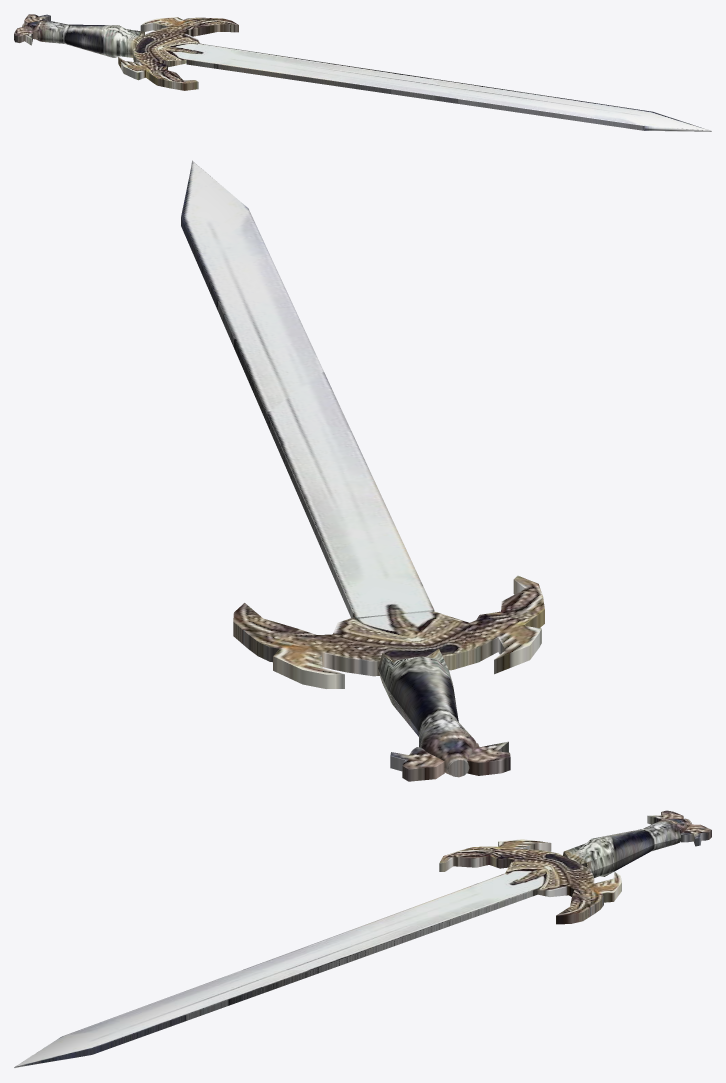
The model's file is sword.FBX.
3 renders of one model, top to bottom at view 1: azimuth 30°, elevation 25°; view 2: azimuth 150°, elevation 25°; view 3: azimuth 270°, elevation 25°, orthographic. The views are drawn at different scales.
Visible parts, largest first — view 1: secivo, barnik2, drzalja, krilo2; view 2: secivo, barnik2, drzalja, krilo4, krilo2; view 3: secivo, barnik2, drzalja, krilo4.
Part boxes in pixels (left/top/right/bottom): secivo: left=186, top=43, right=711, bottom=131; barnik2: left=118, top=17, right=238, bottom=90; drzalja: left=22, top=20, right=144, bottom=57; krilo2: left=14, top=27, right=37, bottom=45; secivo: left=181, top=160, right=434, bottom=618; barnik2: left=233, top=575, right=544, bottom=688; drzalja: left=378, top=649, right=476, bottom=777; krilo4: left=390, top=747, right=444, bottom=781; krilo2: left=467, top=741, right=510, bottom=775; secivo: left=14, top=873, right=537, bottom=1068; barnik2: left=439, top=839, right=621, bottom=924; drzalja: left=563, top=818, right=691, bottom=877; krilo4: left=681, top=824, right=711, bottom=846.
Bounding box in the file's own units: 110 × 127 × 7.38.
